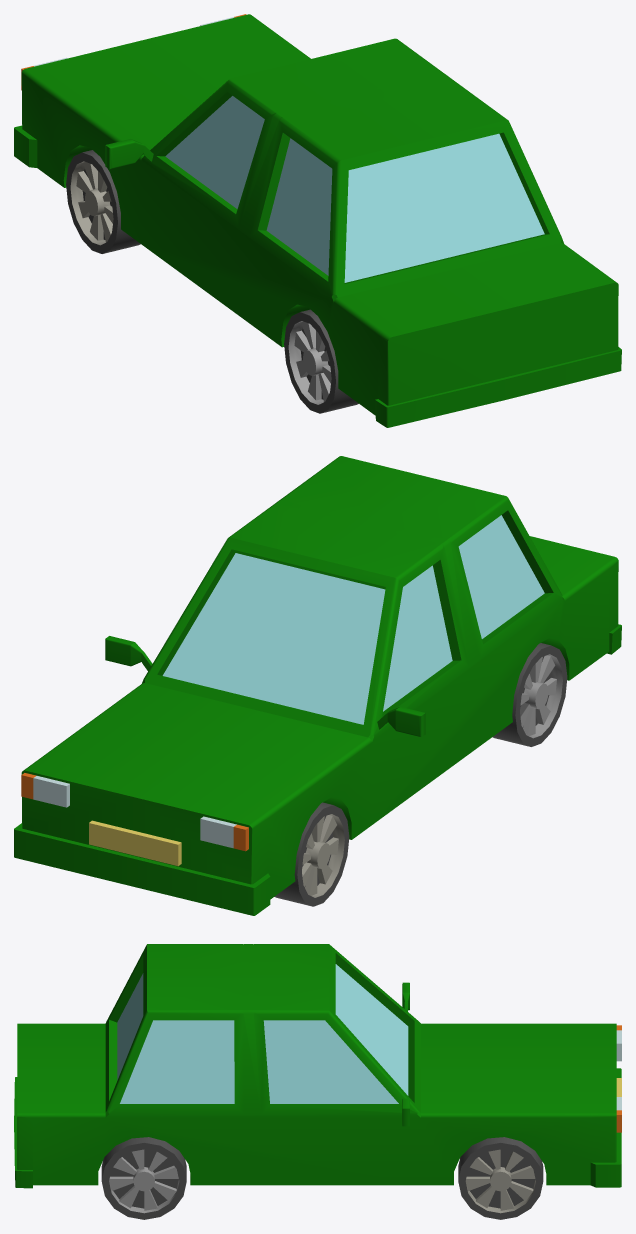
File: CocheV2_verde.fbx
The picture shows the model from 3 angles, top to bottom: view 1: azimuth 30°, elevation 25°; view 2: azimuth 150°, elevation 25°; view 3: azimuth 270°, elevation 25°; orthographic projection. The views are drawn at different scales.
Visible parts, largest first — view 1: Cube, Cylinder, Cylinder.002, Cube.002; view 2: Cube, Cylinder.002, Cylinder, Cube.001, Cube.003, Cube.002; view 3: Cube, Cylinder.002, Cylinder, Cube.002, Cube.001.
Boxes of the visible parts, box(x1,y1,x2,y2) form: Cube: box(14, 14, 621, 427); Cylinder: box(66, 150, 140, 253); Cylinder.002: box(284, 309, 358, 413); Cube.002: box(105, 139, 153, 169); Cube: box(14, 456, 621, 915); Cylinder.002: box(492, 643, 567, 746); Cylinder: box(274, 802, 349, 906); Cube.001: box(21, 773, 248, 851); Cube.003: box(89, 820, 181, 866); Cube.002: box(105, 636, 425, 737); Cube: box(14, 944, 621, 1188); Cylinder.002: box(101, 1137, 186, 1219); Cylinder: box(458, 1137, 543, 1219); Cube.002: box(402, 982, 409, 1126); Cube.001: box(616, 1025, 621, 1132).
Bounding box in the file's own units: 274 × 199 × 558.
